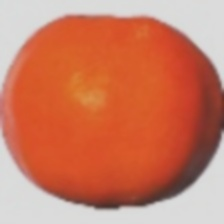tangerine: (38, 31, 187, 196)
